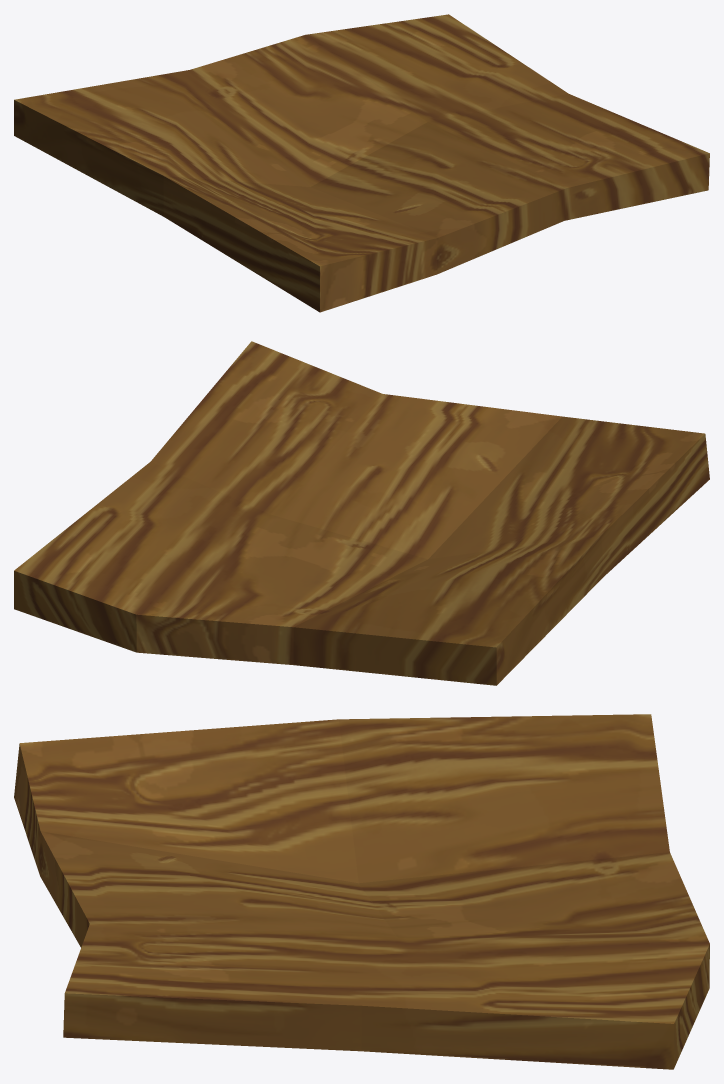
The model's file is plank4_2x2.glb.
The picture shows the model from 3 angles, top to bottom: view 1: azimuth 30°, elevation 25°; view 2: azimuth 150°, elevation 25°; view 3: azimuth 270°, elevation 25°; orthographic projection. The views are drawn at different scales.
Visible parts, largest first — view 1: PLanks_square_medium.003; view 2: PLanks_square_medium.003; view 3: PLanks_square_medium.003.
Part boxes in pixels (x1,y1,x2,y2): PLanks_square_medium.003: (14, 14, 709, 312); PLanks_square_medium.003: (14, 341, 709, 685); PLanks_square_medium.003: (14, 714, 709, 1069).
Bounding box in the file's own units: 2.22 × 0.3405 × 2.3.
1 material, 1 textured.
